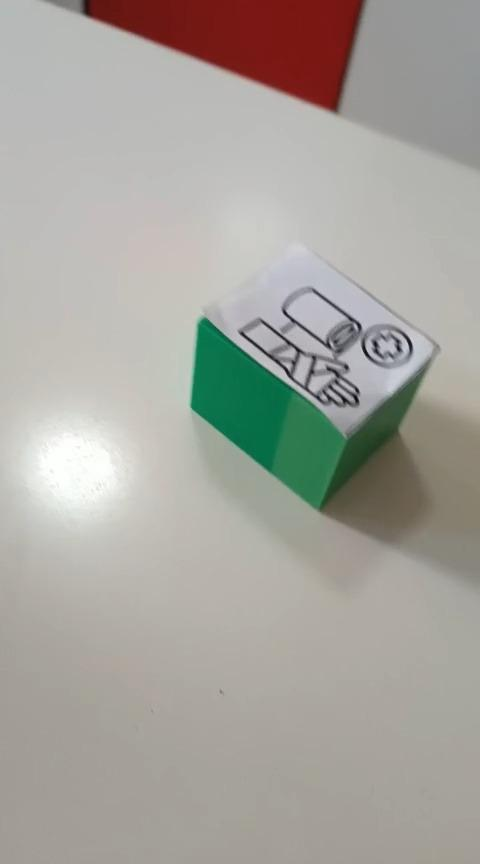Bandages: (188, 240, 440, 511)
